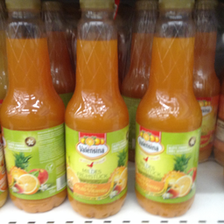juice: (135, 1, 202, 218), (65, 2, 130, 221), (1, 1, 66, 215)
